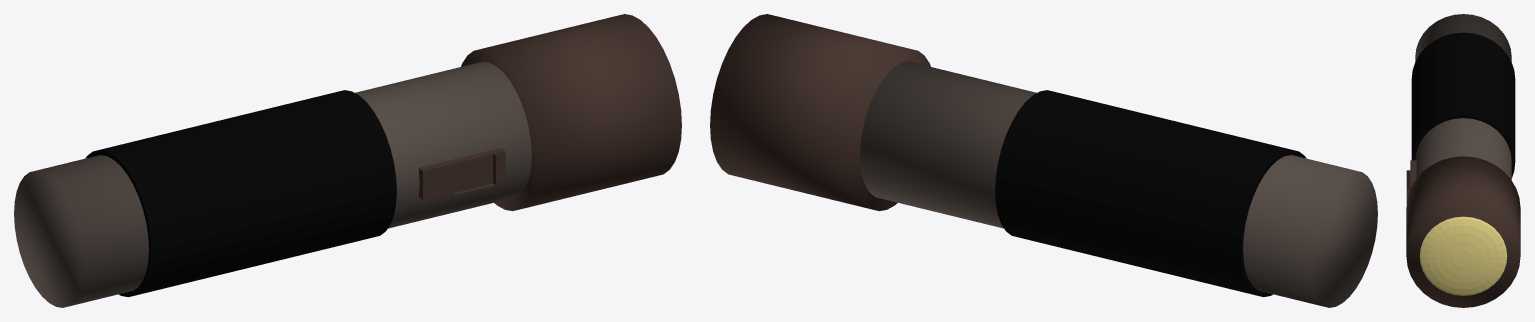
Rendered from lanterna_000.obj.
3 views of the same model, side by side, from view 1: azimuth 30°, elevation 25°; view 2: azimuth 150°, elevation 25°; view 3: azimuth 270°, elevation 25° (orthographic). The views are drawn at different scales.
Visible parts, largest first — view 1: Cylinder.001; view 2: Cylinder.001; view 3: Cylinder.001.
Part boxes in pixels (left/top/right/bottom): Cylinder.001: left=14, top=14, right=681, bottom=307; Cylinder.001: left=710, top=14, right=1377, bottom=307; Cylinder.001: left=1406, top=14, right=1520, bottom=307.
Size of the model in its own units: 0.5581 by 0.1339 by 0.1339.
Materials: 1 (1 with a texture image).
